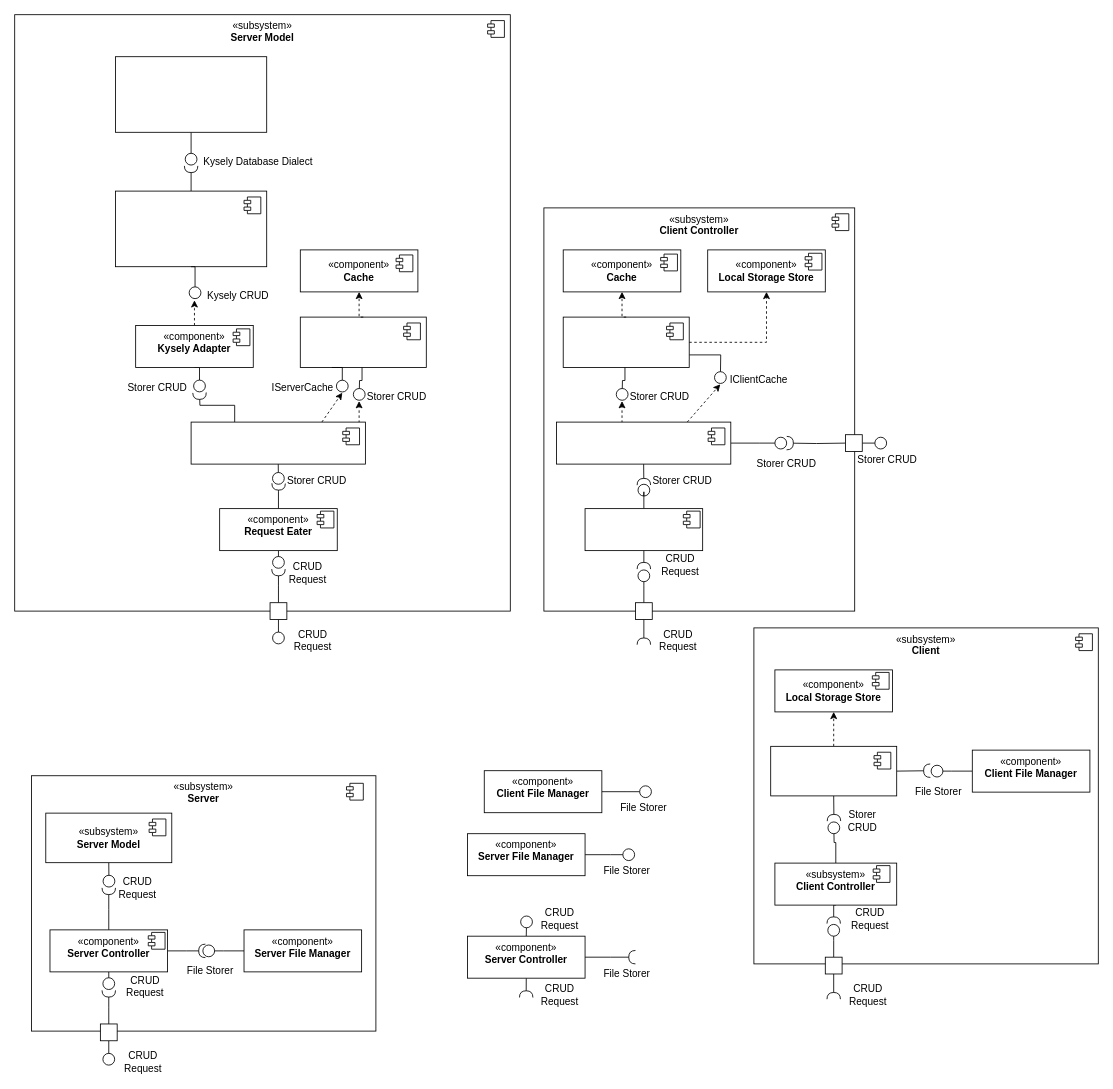
Image size: 1113x1089. Some labels were removed from this diagram. Each missing label, with the box of its shape:
«artifact» Kysely MySql Dialect: (115, 56, 267, 132)
«component» Client Cache: (562, 316, 689, 368)
«component» Client Cache-First Store: (556, 421, 731, 464)
«component» Client View: (770, 746, 897, 796)
«component» Kysely Query Builder: (115, 190, 267, 267)
«component» Requester: (584, 508, 703, 551)
«component» Server Cache: (299, 316, 426, 368)
«component» Server Cache-First Store: (190, 421, 365, 464)
